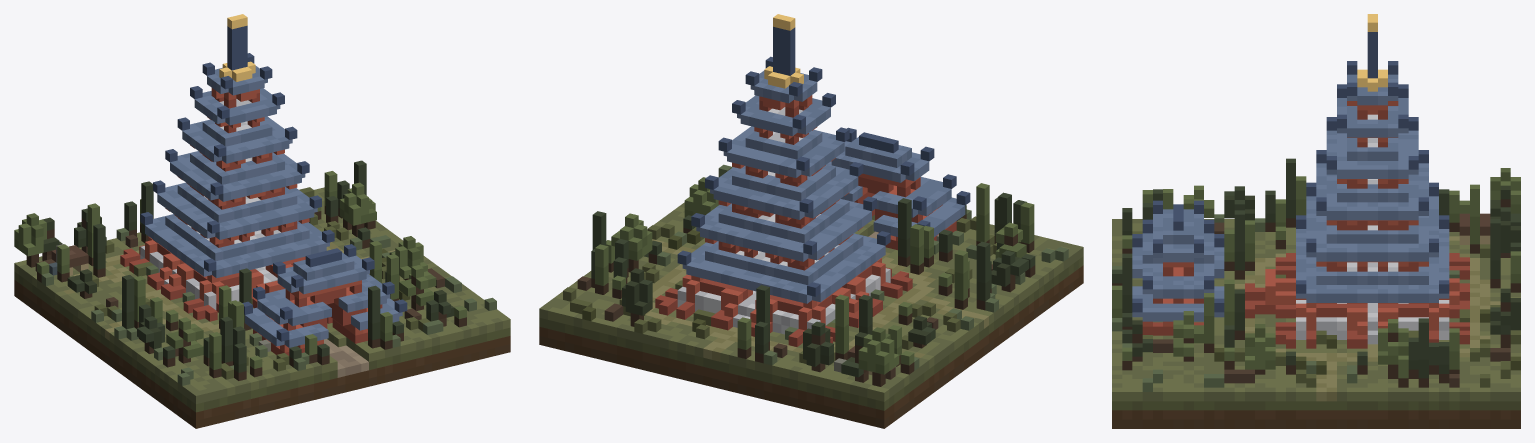
The model's file is wfffffffr_LF_1.glb.
3 views of the same model, side by side, from view 1: azimuth 30°, elevation 25°; view 2: azimuth 150°, elevation 25°; view 3: azimuth 270°, elevation 25° (orthographic). The views are drawn at different scales.
Visible parts, largest first — view 1: wfffffffr_LF_1-0; view 2: wfffffffr_LF_1-0; view 3: wfffffffr_LF_1-0.
Part boxes in pixels (x1,y1,x2,y2): wfffffffr_LF_1-0: (14, 14, 510, 428); wfffffffr_LF_1-0: (539, 14, 1083, 428); wfffffffr_LF_1-0: (1112, 14, 1520, 428).
Size of the model in its own units: 4 by 3.5 by 4.
1 material, 1 textured.
